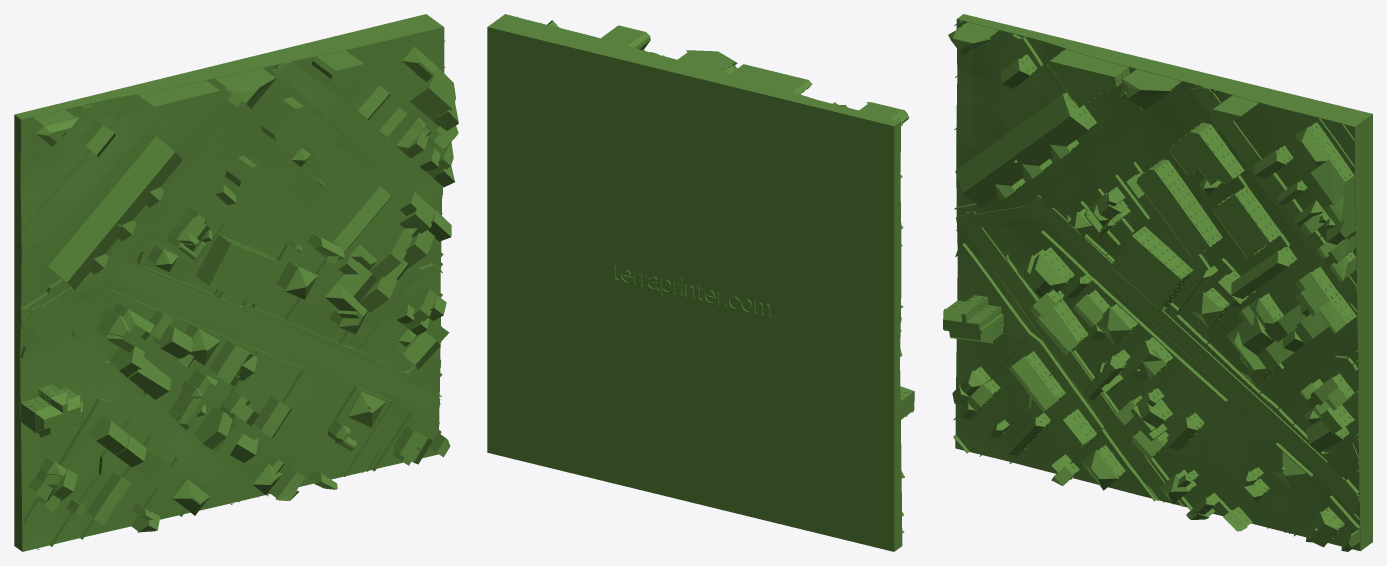
3 views of the same model, side by side, from view 1: azimuth 30°, elevation 25°; view 2: azimuth 150°, elevation 25°; view 3: azimuth 330°, elevation 25° (orthographic).
Visible parts, largest first — view 1: 3D map; view 2: 3D map; view 3: 3D map.
Boxes of the visible parts, x1,y1,x2,y2 form: 3D map: [14, 14, 458, 551]; 3D map: [487, 14, 914, 551]; 3D map: [943, 14, 1372, 551].
Size of the model in its own units: 200 by 200 by 29.7.
